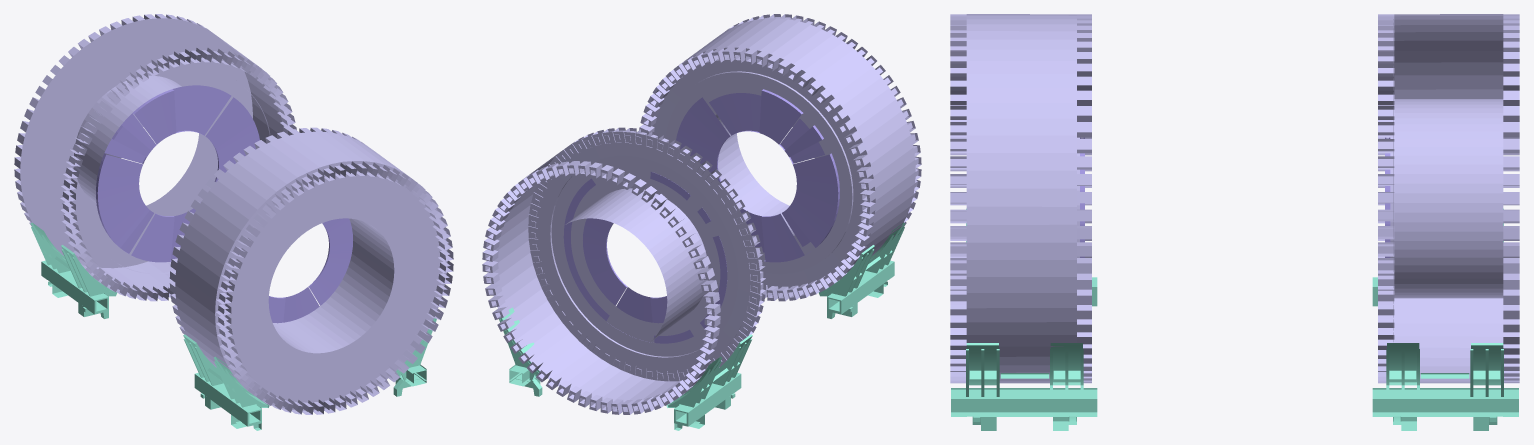
The model's file is calorimeter-tile-endcap.glb.
The picture shows the model from 3 angles, left to right: view 1: azimuth 30°, elevation 25°; view 2: azimuth 150°, elevation 25°; view 3: azimuth 270°, elevation 25°; orthographic projection. The views are drawn at different scales.
Visible parts, largest first — view 1: Mesh_0.007, Mesh_0.003, Mesh_2.002, Mesh_1.002, Mesh_2.003, Mesh_1.001; view 2: Mesh_0.003, Mesh_0.007, Mesh_2.003, Mesh_2.002, Mesh_1.001, Mesh_1.002; view 3: Mesh_0.007, Mesh_0.003, Mesh_1.001, Mesh_1.002.
Part boxes in pixels (<box>): Mesh_0.007: <box>169,127,453,414</box>; Mesh_0.003: <box>14,14,296,301</box>; Mesh_2.002: <box>96,85,259,262</box>; Mesh_1.002: <box>183,318,436,430</box>; Mesh_2.003: <box>268,218,352,323</box>; Mesh_1.001: <box>30,222,116,318</box>; Mesh_0.003: <box>482,127,766,414</box>; Mesh_0.007: <box>639,14,921,301</box>; Mesh_2.003: <box>676,89,839,262</box>; Mesh_2.002: <box>563,172,727,343</box>; Mesh_1.001: <box>499,307,752,430</box>; Mesh_1.002: <box>819,222,905,318</box>; Mesh_0.007: <box>950,14,1091,383</box>; Mesh_0.003: <box>1378,14,1519,383</box>; Mesh_1.001: <box>1372,208,1518,430</box>; Mesh_1.002: <box>951,208,1097,430</box>.
Size of the model in its own units: 8.48 by 8.73 by 13.05.
